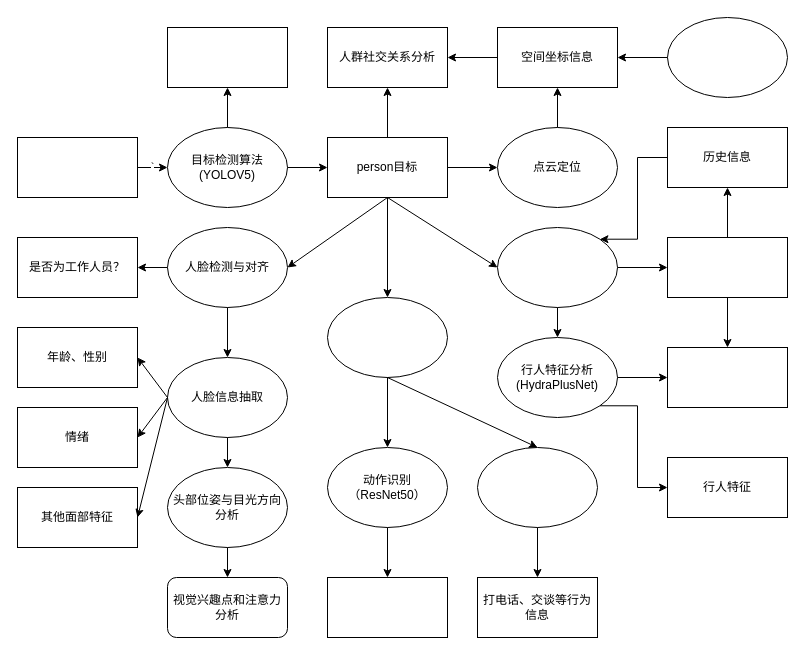
The diagram is 805 pixels wide and 655 high, and some of its shapes have lost their labels. The shapes that lost their labels are listed below. From the top down, each one's centre as x and y in pixels, then its label:
At point (227, 57): "非person目标".
At point (727, 57): "音源定位".
At point (77, 167): "图像（rgbd）".
At point (557, 267): "目标追踪算法（行人重识别）".
At point (727, 267): "运动轨迹".
At point (387, 337): "位姿骨架识别".
At point (727, 377): "朝向信息".
At point (537, 487): "行为理解 （ST-GCN）".
At point (387, 607): "挥手、行走等简单动作信息".
